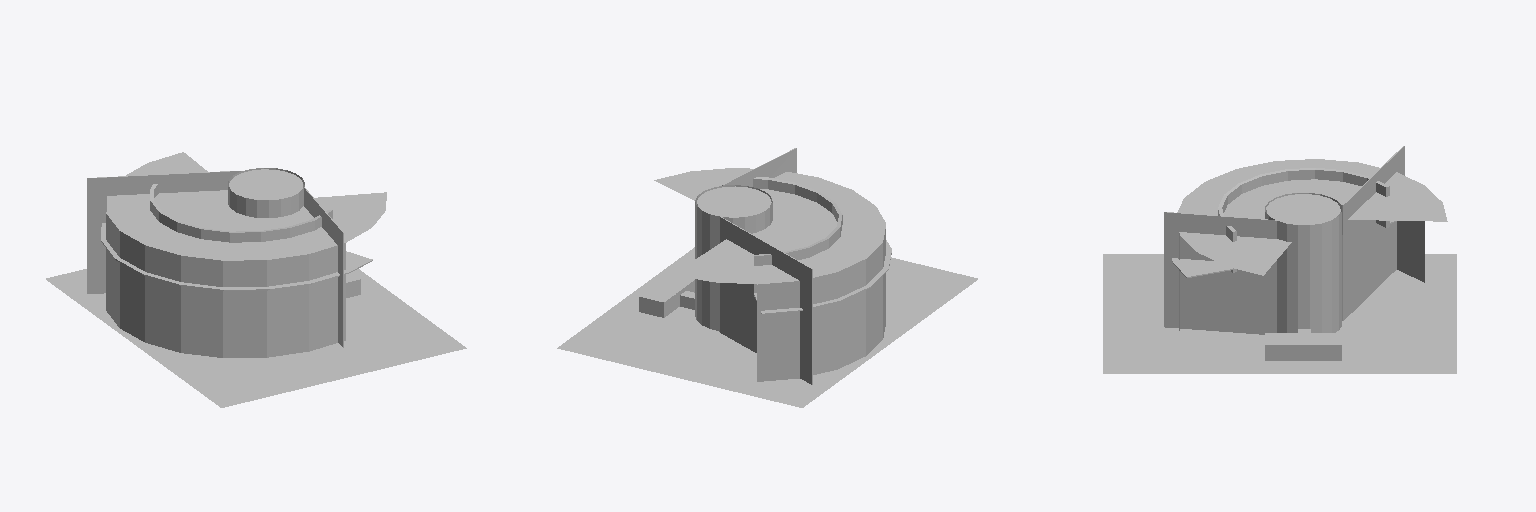
File: level_1_Proto_OBJ.obj
The picture shows the model from 3 angles: view 1: azimuth 30°, elevation 25°; view 2: azimuth 150°, elevation 25°; view 3: azimuth 270°, elevation 25°; orthographic projection.
Parts seen in each view (by area): view 1: outerWall, bottomFloor, WallsObj, innerWall1 landing_innerWall, pCylinder6; view 2: outerWall, bottomFloor, WallsObj, innerWall1 landing_innerWall, pCylinder6, cell; view 3: bottomFloor, WallsObj, outerWall, innerWall1 landing_innerWall, cell, pCylinder6.
Part boxes in pixels (x1,y1,x2,y2): outerWall: (106, 152, 386, 357); bottomFloor: (46, 269, 466, 407); WallsObj: (87, 168, 343, 347); innerWall1 landing_innerWall: (101, 184, 372, 290); pCylinder6: (229, 169, 303, 199); outerWall: (654, 168, 885, 381); bottomFloor: (557, 247, 977, 407); WallsObj: (695, 148, 812, 384); innerWall1 landing_innerWall: (738, 176, 891, 314); pCylinder6: (697, 186, 771, 217); cell: (639, 269, 694, 317); bottomFloor: (1103, 254, 1456, 373); WallsObj: (1164, 146, 1404, 334); outerWall: (1177, 159, 1447, 330); innerWall1 landing_innerWall: (1172, 168, 1396, 277); cell: (1265, 333, 1341, 360); pCylinder6: (1266, 194, 1340, 224).
Bounding box in the file's own units: 68.21 × 30.98 × 85.01.